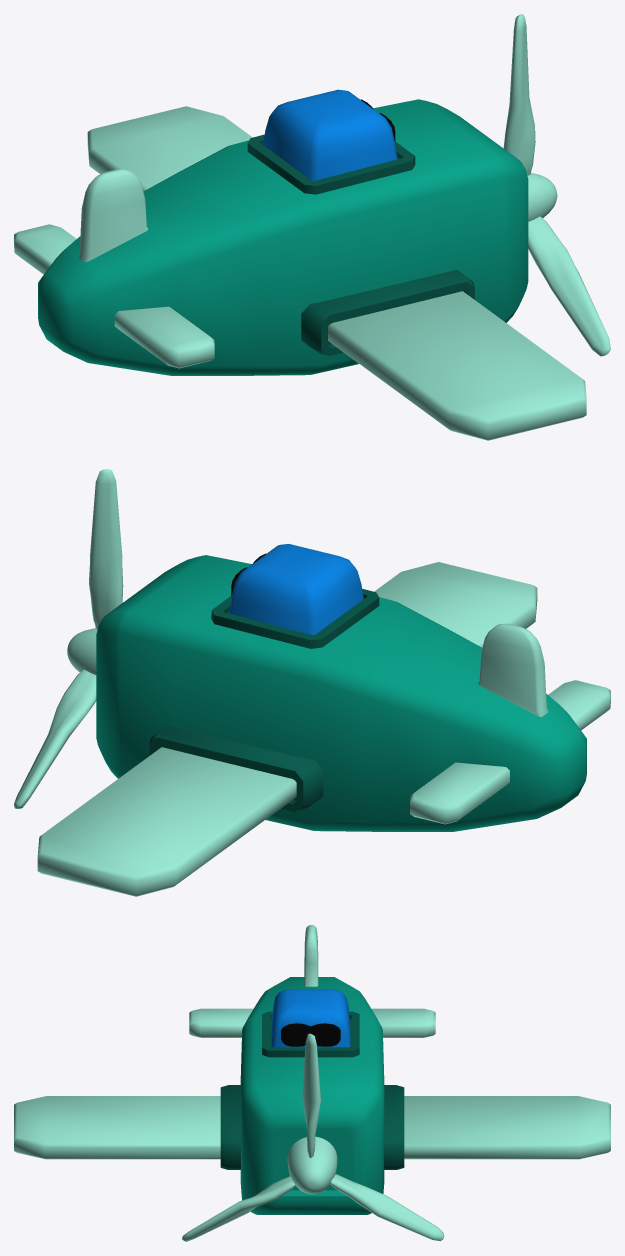
The model's file is BluePlaneEnemy.fbx.
3 renders of one model, top to bottom at view 1: azimuth 30°, elevation 25°; view 2: azimuth 150°, elevation 25°; view 3: azimuth 270°, elevation 25°, orthographic. The views are drawn at different scales.
Visible parts, largest first — view 1: base_low3, wing_low3, pilot_low3, propeller_low4, wingback_low3, wingsup_low3, taile_low3, topsup_low3; view 2: base_low3, wing_low3, pilot_low3, propeller_low4, wingback_low3, wingsup_low3, taile_low3, topsup_low3; view 3: wing_low3, base_low3, propeller_low4, wingsup_low3, wingback_low3, pilot_low3, topsup_low3, glass_low3, taile_low3.
Part boxes in pixels (box(x1,y1,x2,y2)): base_low3: box(38, 99, 528, 375); wing_low3: box(87, 106, 586, 440); pilot_low3: box(263, 89, 397, 180); propeller_low4: box(503, 14, 610, 356); wingback_low3: box(14, 224, 214, 368); wingsup_low3: box(301, 269, 474, 355); taile_low3: box(78, 169, 148, 262); topsup_low3: box(247, 134, 415, 194); base_low3: box(96, 555, 586, 831); wing_low3: box(37, 562, 537, 896); pilot_low3: box(229, 544, 363, 634); propeller_low4: box(14, 469, 123, 808); wingback_low3: box(410, 680, 610, 824); wingsup_low3: box(149, 725, 323, 811); taile_low3: box(478, 623, 548, 717); topsup_low3: box(211, 589, 379, 648); wing_low3: box(14, 1096, 610, 1159); base_low3: box(240, 977, 384, 1214); propeller_low4: box(182, 1033, 444, 1241); wingsup_low3: box(220, 1085, 404, 1169); wingback_low3: box(189, 1008, 435, 1037); pilot_low3: box(271, 989, 350, 1047); topsup_low3: box(262, 1011, 359, 1057); glass_low3: box(281, 1023, 340, 1046); taile_low3: box(304, 925, 318, 986).
Size of the model in its own units: 1109 by 584 by 1520.
